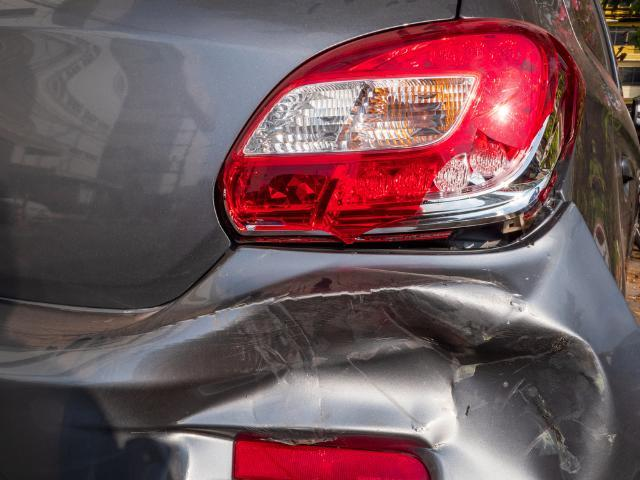dent: (130, 288, 610, 480)
lamp broken: (218, 18, 582, 247)
